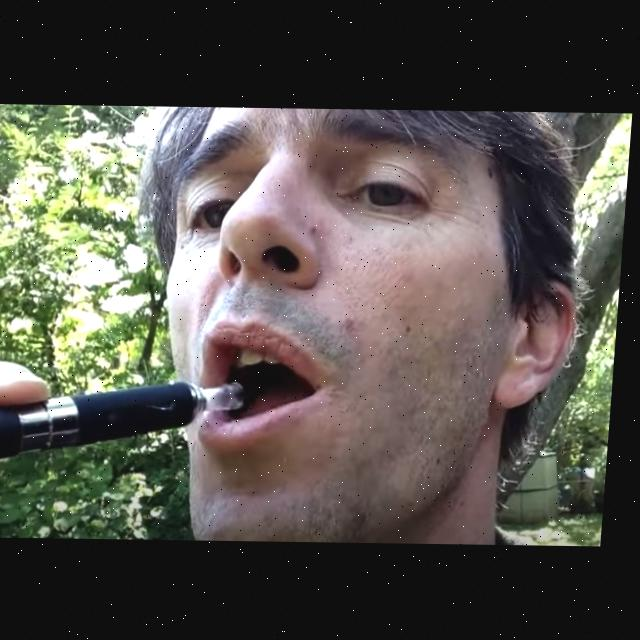vape: (0, 376, 252, 467)
